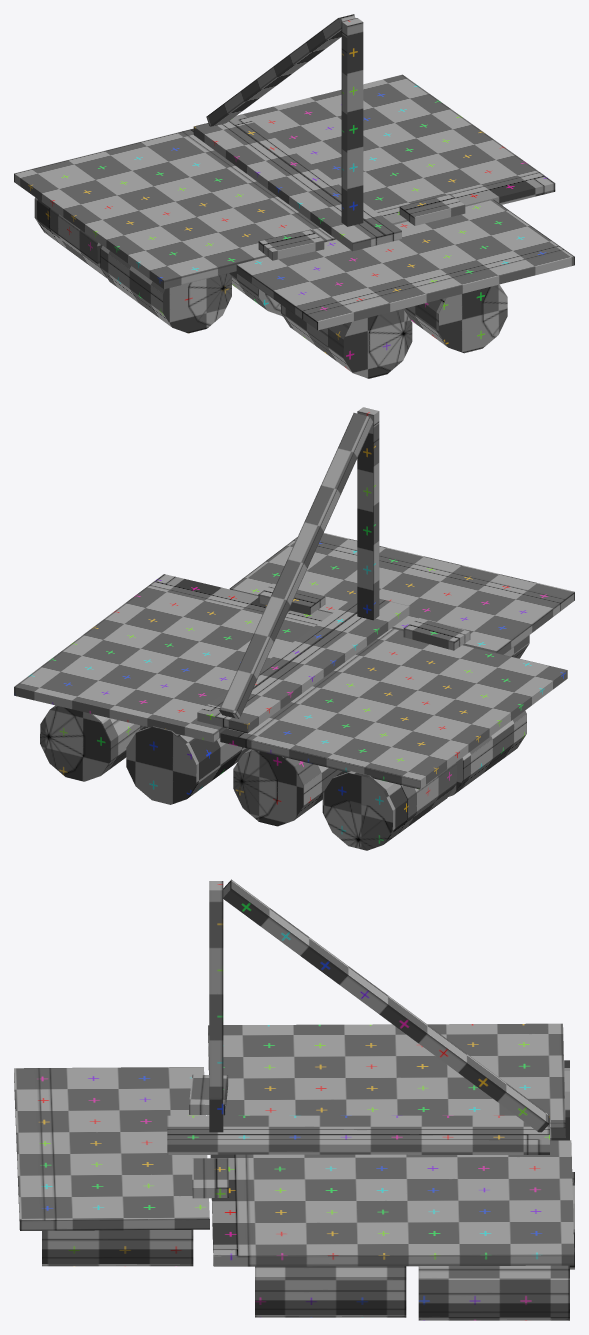
File: boat.fbx
3 views of the same model, one above another, from view 1: azimuth 30°, elevation 25°; view 2: azimuth 150°, elevation 25°; view 3: azimuth 270°, elevation 25° (orthographic). The views are drawn at different scales.
Visible parts, largest first — view 1: Boat Mesh; view 2: Boat Mesh; view 3: Boat Mesh.
Boxes of the visible parts, box(x1,y1,x2,y2) form: Boat Mesh: box(14, 14, 574, 378); Boat Mesh: box(14, 407, 574, 850); Boat Mesh: box(14, 879, 574, 1320).
Bounding box in the file's own units: 479 × 334 × 488.
